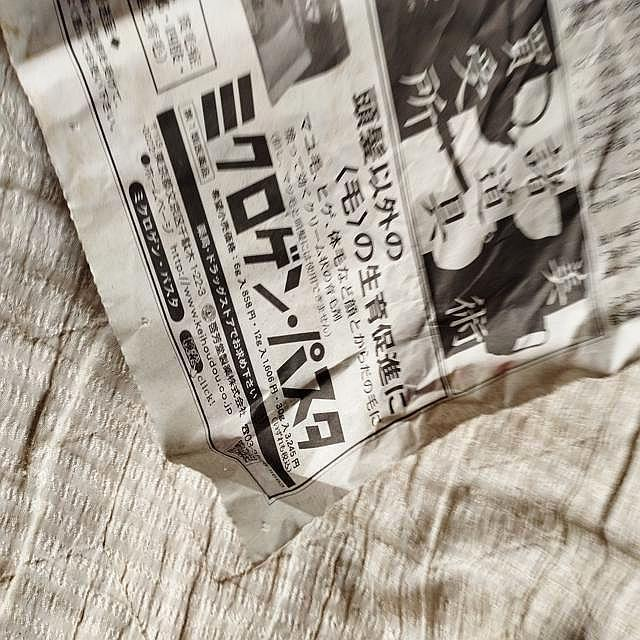Biodegradable: (1, 1, 640, 505)
